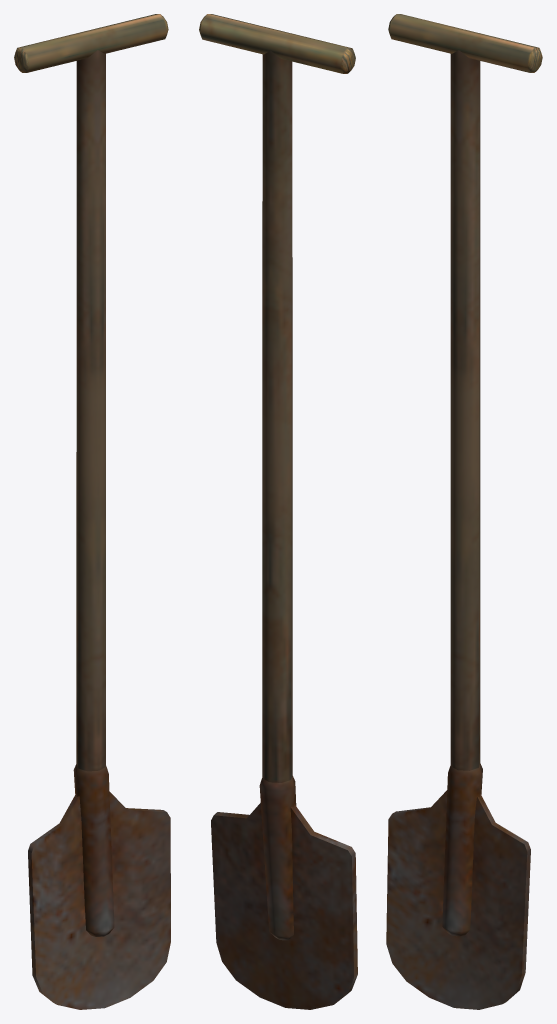
Rendered from village_shovel_01.fbx.
3 renders of one model, left to right at view 1: azimuth 30°, elevation 25°; view 2: azimuth 150°, elevation 25°; view 3: azimuth 330°, elevation 25°, orthographic.
Parts seen in each view (by area): view 1: village_shovel_01; view 2: village_shovel_01; view 3: village_shovel_01.
Boxes of the visible parts, x1,y1,x2,y2 form: village_shovel_01: (14,14,170,1009); village_shovel_01: (199,14,357,1009); village_shovel_01: (386,14,542,1009).
Bounding box in the file's own units: 21.51 × 138 × 6.36.
